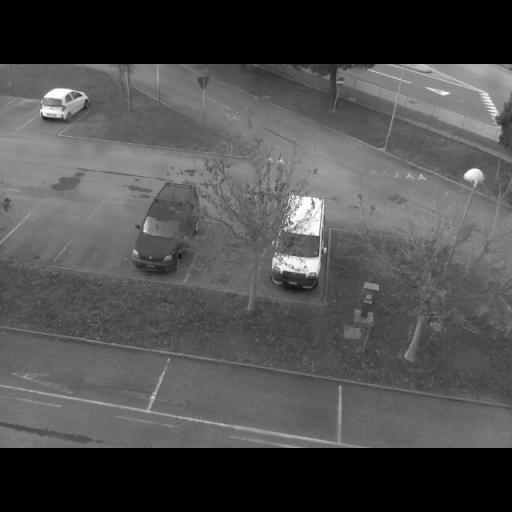busy: (128, 186, 212, 276), (267, 192, 333, 300), (36, 88, 94, 124)
free: (193, 371, 303, 423), (358, 400, 469, 448), (33, 344, 135, 392), (204, 221, 268, 283), (77, 230, 128, 264), (20, 218, 62, 251), (3, 106, 32, 122)
